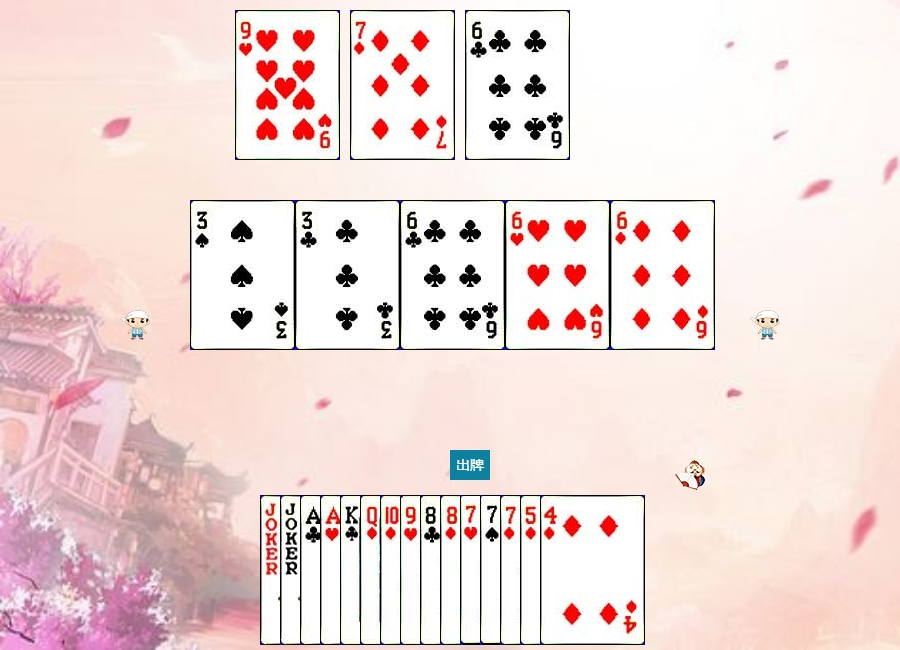10~1: (380, 495, 485, 645)
12~1: (360, 495, 465, 645)
13~2: (340, 495, 445, 645)
14~2: (300, 495, 405, 645)
14~3: (320, 495, 425, 645)
17~3: (280, 495, 385, 645)
18~4: (260, 495, 365, 645)
3~2: (295, 200, 400, 350)
3~4: (190, 200, 295, 350)
4~1: (540, 495, 645, 645)
5~1: (520, 495, 625, 645)
6~1: (610, 200, 715, 350)
6~2: (465, 10, 570, 160), (400, 200, 505, 350)
6~3: (505, 200, 610, 350)
7~1: (350, 10, 455, 160), (500, 495, 605, 645)
7~3: (460, 495, 565, 645)
7~4: (480, 495, 585, 645)
8~1: (440, 495, 545, 645)
8~2: (420, 495, 525, 645)
9~3: (235, 10, 340, 160), (400, 495, 505, 645)
